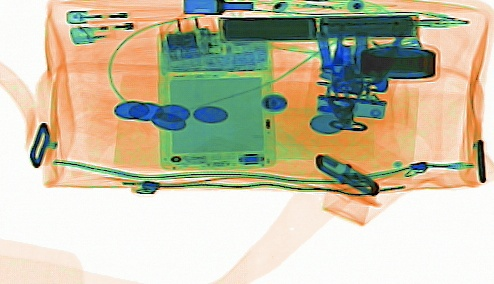lighter: (67, 14, 176, 44), (63, 3, 175, 25)
powerbank: (210, 10, 424, 42)
